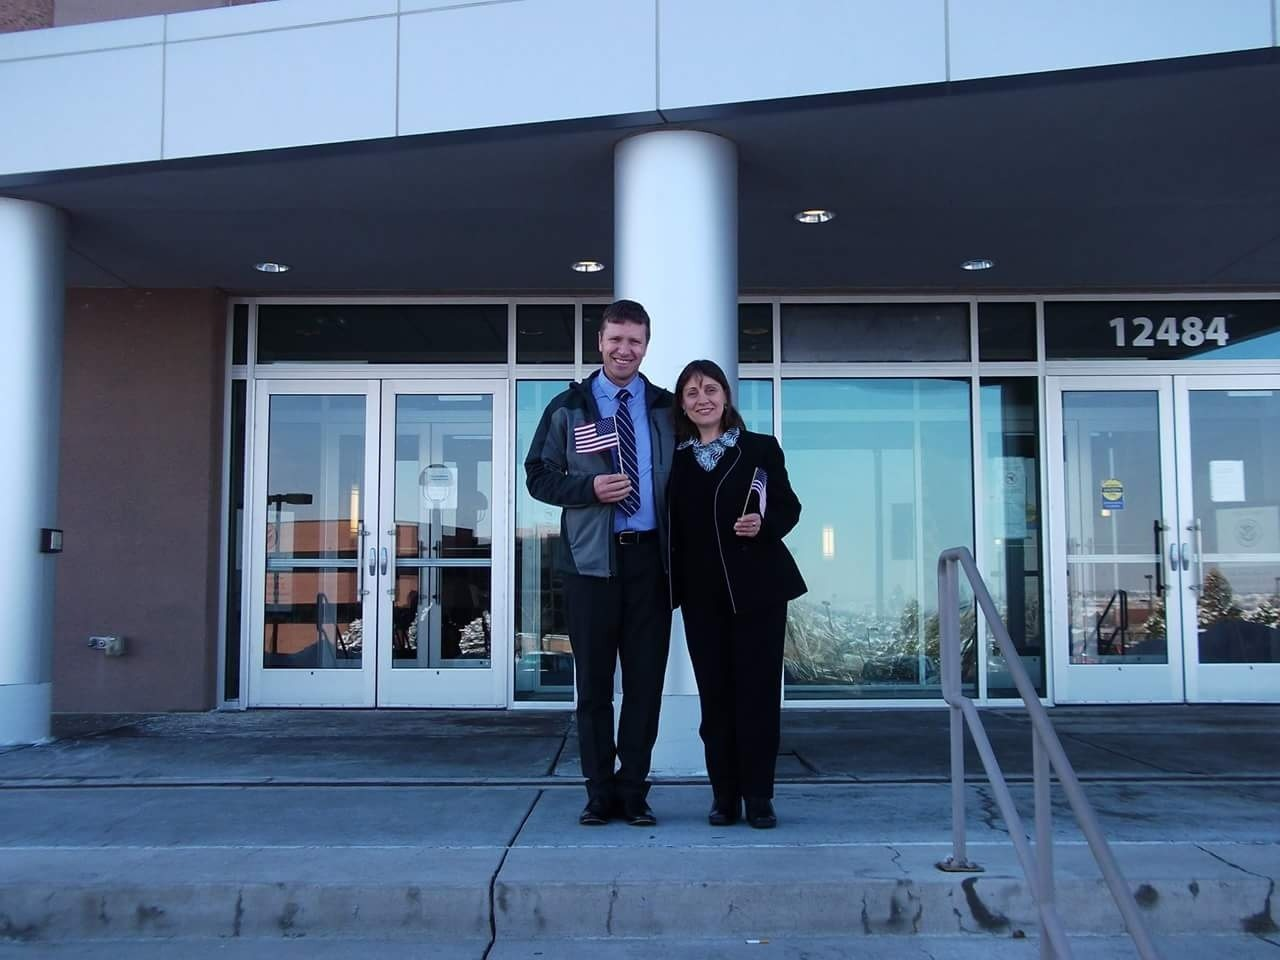face_no_mask: (595, 298, 653, 381), (672, 361, 730, 425)
